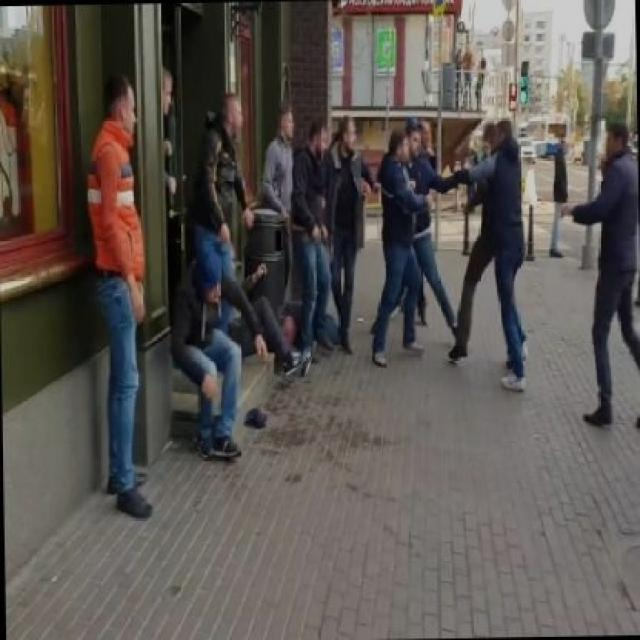fight: (371, 116, 531, 366), (562, 123, 640, 420), (318, 111, 381, 353), (372, 130, 434, 363)
non-fight: (84, 78, 152, 520), (172, 244, 290, 467), (197, 95, 258, 300), (262, 110, 302, 306)
